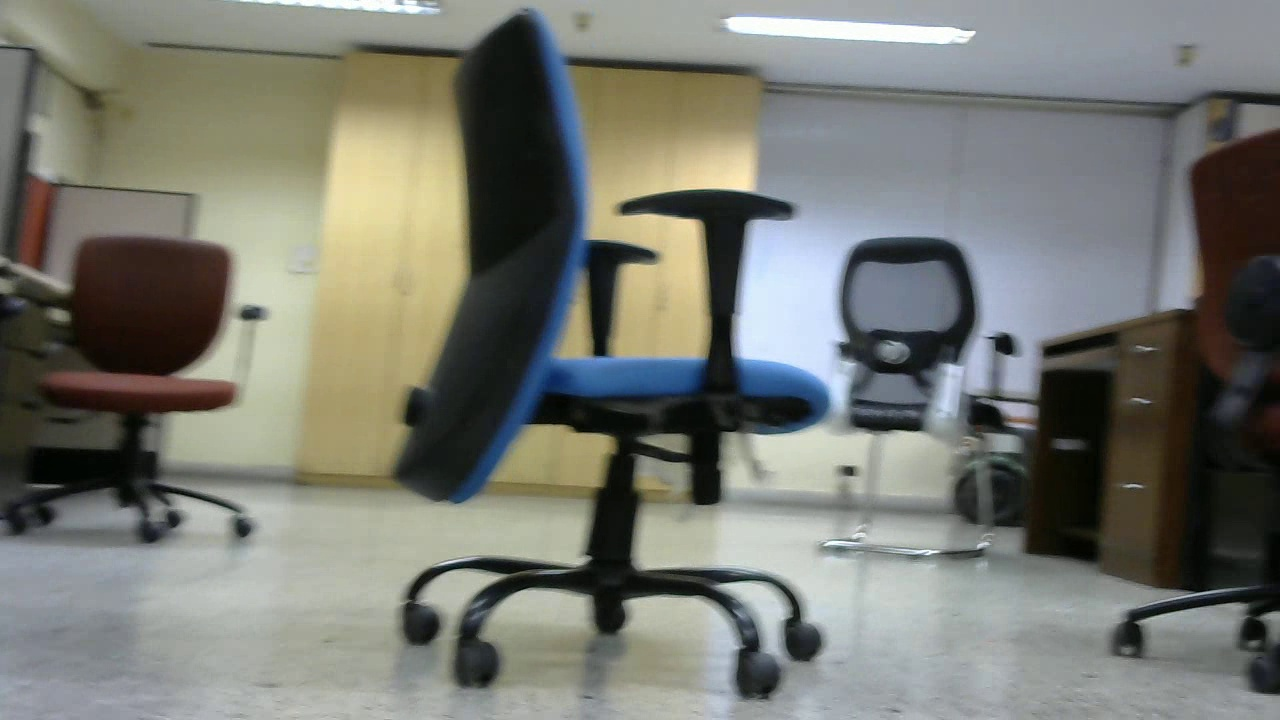chair: (398, 1, 834, 705), (14, 219, 259, 546), (815, 228, 1001, 565)
